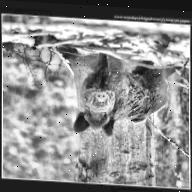boar: (71, 48, 171, 156)
